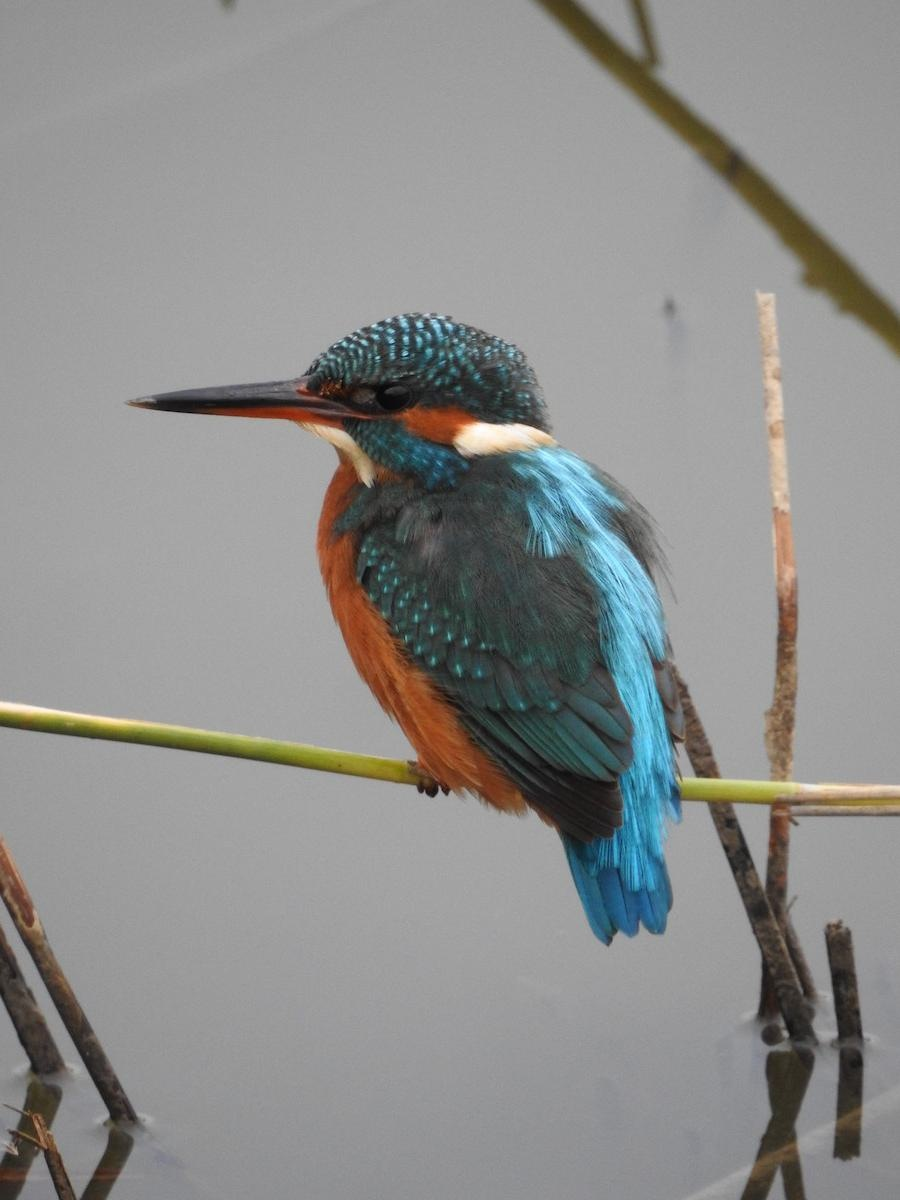kingfisher: (134, 305, 744, 941)
